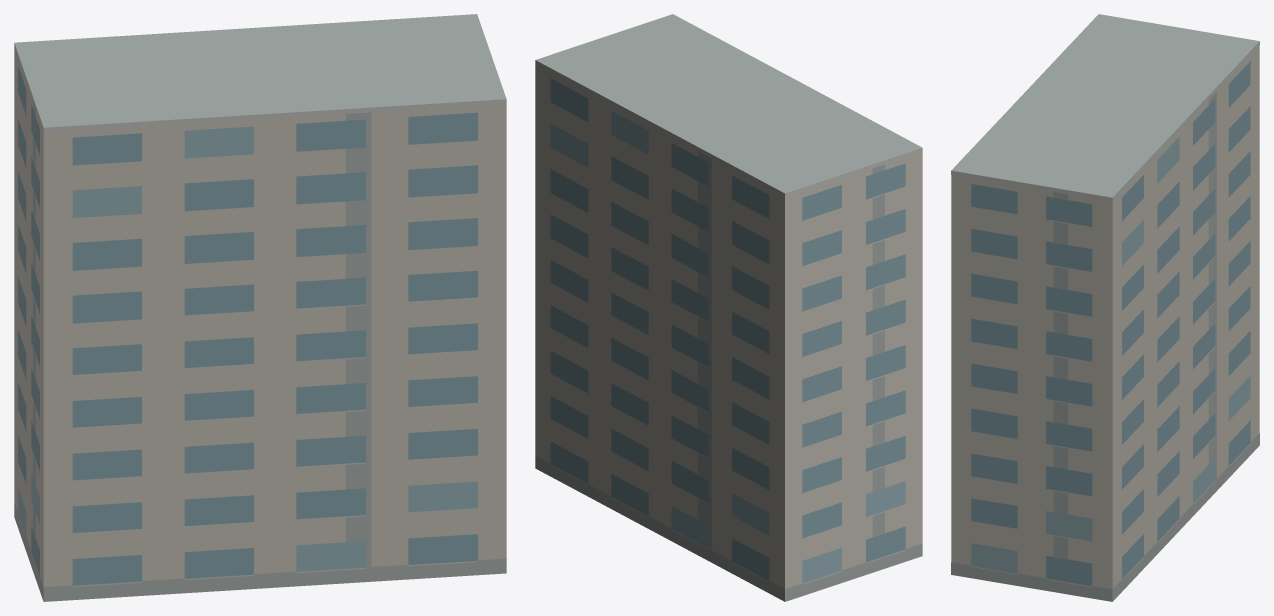
Rendered from residential-da7451d3-ae94-4808-8a34-5e3df9cb7832.glb.
3 views of the same model, side by side, from view 1: azimuth 30°, elevation 25°; view 2: azimuth 150°, elevation 25°; view 3: azimuth 270°, elevation 25° (orthographic). The views are drawn at different scales.
Visible parts, largest first — view 1: residential-da7451d3-ae94-4808-8a34-5e3df9cb7832.tmp; view 2: residential-da7451d3-ae94-4808-8a34-5e3df9cb7832.tmp; view 3: residential-da7451d3-ae94-4808-8a34-5e3df9cb7832.tmp.
Part boxes in pixels (bbox=[...]): residential-da7451d3-ae94-4808-8a34-5e3df9cb7832.tmp: bbox=[14, 14, 506, 601]; residential-da7451d3-ae94-4808-8a34-5e3df9cb7832.tmp: bbox=[535, 14, 922, 601]; residential-da7451d3-ae94-4808-8a34-5e3df9cb7832.tmp: bbox=[951, 14, 1259, 601].
Bounding box in the file's own units: 23.4 × 24 × 16.62.
